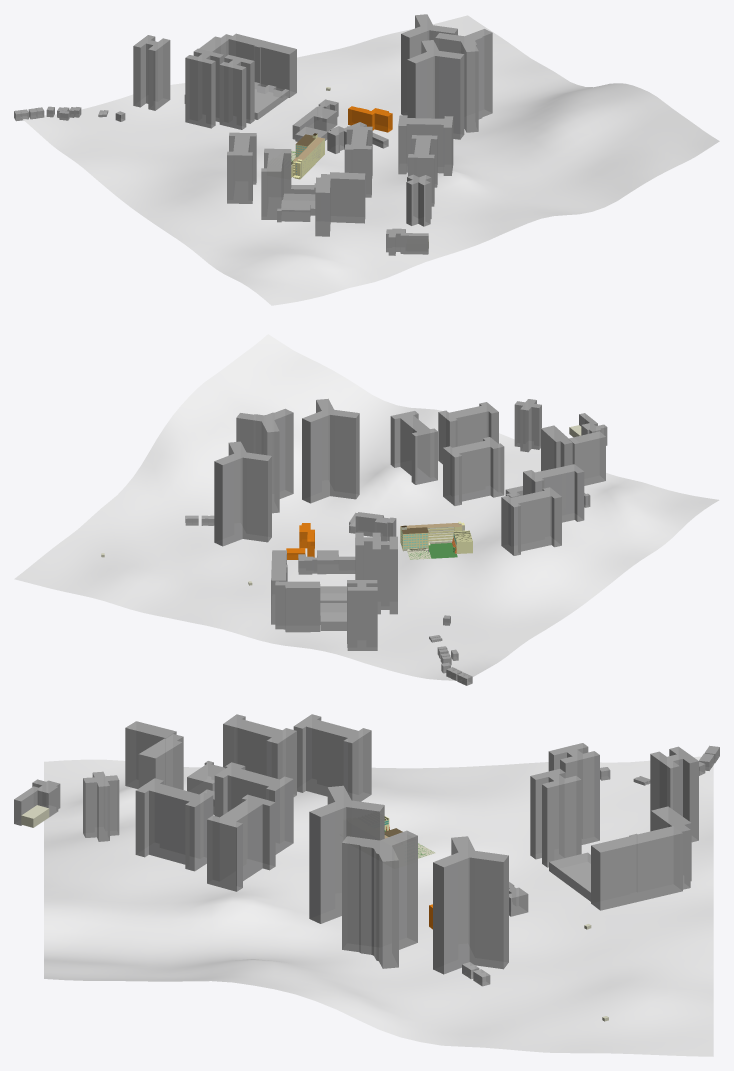
File: cadmapper2.dae
The picture shows the model from 3 angles, top to bottom: view 1: azimuth 30°, elevation 25°; view 2: azimuth 150°, elevation 25°; view 3: azimuth 270°, elevation 25°; orthographic projection. The views are drawn at different scales.
Visible parts, largest first — view 1: group_272, group_111, group_191, group_235, group_47, group_8, group_226, group_215, group_79, group_208, group_207, group_60 (+10 smaller); view 2: group_272, group_60, group_111, group_135, group_79, group_191, group_215, group_267, group_68, group_47, group_207, group_235 (+9 smaller); view 3: group_272, group_191, group_60, group_8, group_111, group_68, group_79, group_215, group_226, group_207, group_135, group_47 (+8 smaller).
Part boxes in pixels (x1=…): group_272: x1=23, y1=15, x2=719, y2=305; group_111: x1=407, y1=40, x2=464, y2=139; group_191: x1=435, y1=29, x2=492, y2=132; group_235: x1=185, y1=48, x2=223, y2=128; group_47: x1=133, y1=35, x2=170, y2=110; group_8: x1=228, y1=33, x2=296, y2=97; group_226: x1=219, y1=54, x2=254, y2=129; group_215: x1=398, y1=115, x2=453, y2=175; group_79: x1=227, y1=132, x2=256, y2=203; group_208: x1=320, y1=172, x2=365, y2=223; group_207: x1=261, y1=148, x2=291, y2=219; group_60: x1=401, y1=14, x2=457, y2=115; group_272: x1=14, y1=334, x2=719, y2=680; group_60: x1=214, y1=441, x2=271, y2=546; group_111: x1=302, y1=398, x2=359, y2=503; group_135: x1=443, y1=437, x2=504, y2=505; group_79: x1=501, y1=487, x2=561, y2=555; group_191: x1=236, y1=408, x2=293, y2=513; group_215: x1=390, y1=411, x2=437, y2=484; group_267: x1=275, y1=581, x2=320, y2=632; group_68: x1=438, y1=402, x2=498, y2=464; group_47: x1=347, y1=580, x2=377, y2=650; group_207: x1=523, y1=464, x2=584, y2=522; group_235: x1=372, y1=536, x2=397, y2=614; group_272: x1=44, y1=756, x2=713, y2=1056; group_191: x1=342, y1=830, x2=417, y2=968; group_60: x1=433, y1=836, x2=508, y2=974; group_8: x1=591, y1=826, x2=682, y2=910; group_111: x1=309, y1=785, x2=384, y2=923; group_68: x1=135, y1=778, x2=213, y2=871; group_79: x1=293, y1=714, x2=371, y2=801; group_215: x1=207, y1=794, x2=275, y2=891; group_226: x1=530, y1=769, x2=581, y2=867; group_207: x1=223, y1=714, x2=296, y2=796; group_135: x1=214, y1=762, x2=293, y2=854; group_47: x1=650, y1=746, x2=698, y2=842.
Size of the model in its own units: 24325 by 24692 by 5571.
